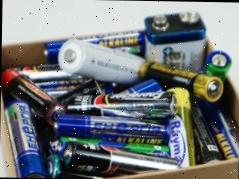electronic: (51, 134, 183, 179), (46, 110, 178, 152), (53, 32, 150, 86), (136, 52, 228, 106), (0, 57, 64, 131), (2, 102, 51, 178), (61, 94, 180, 118)
